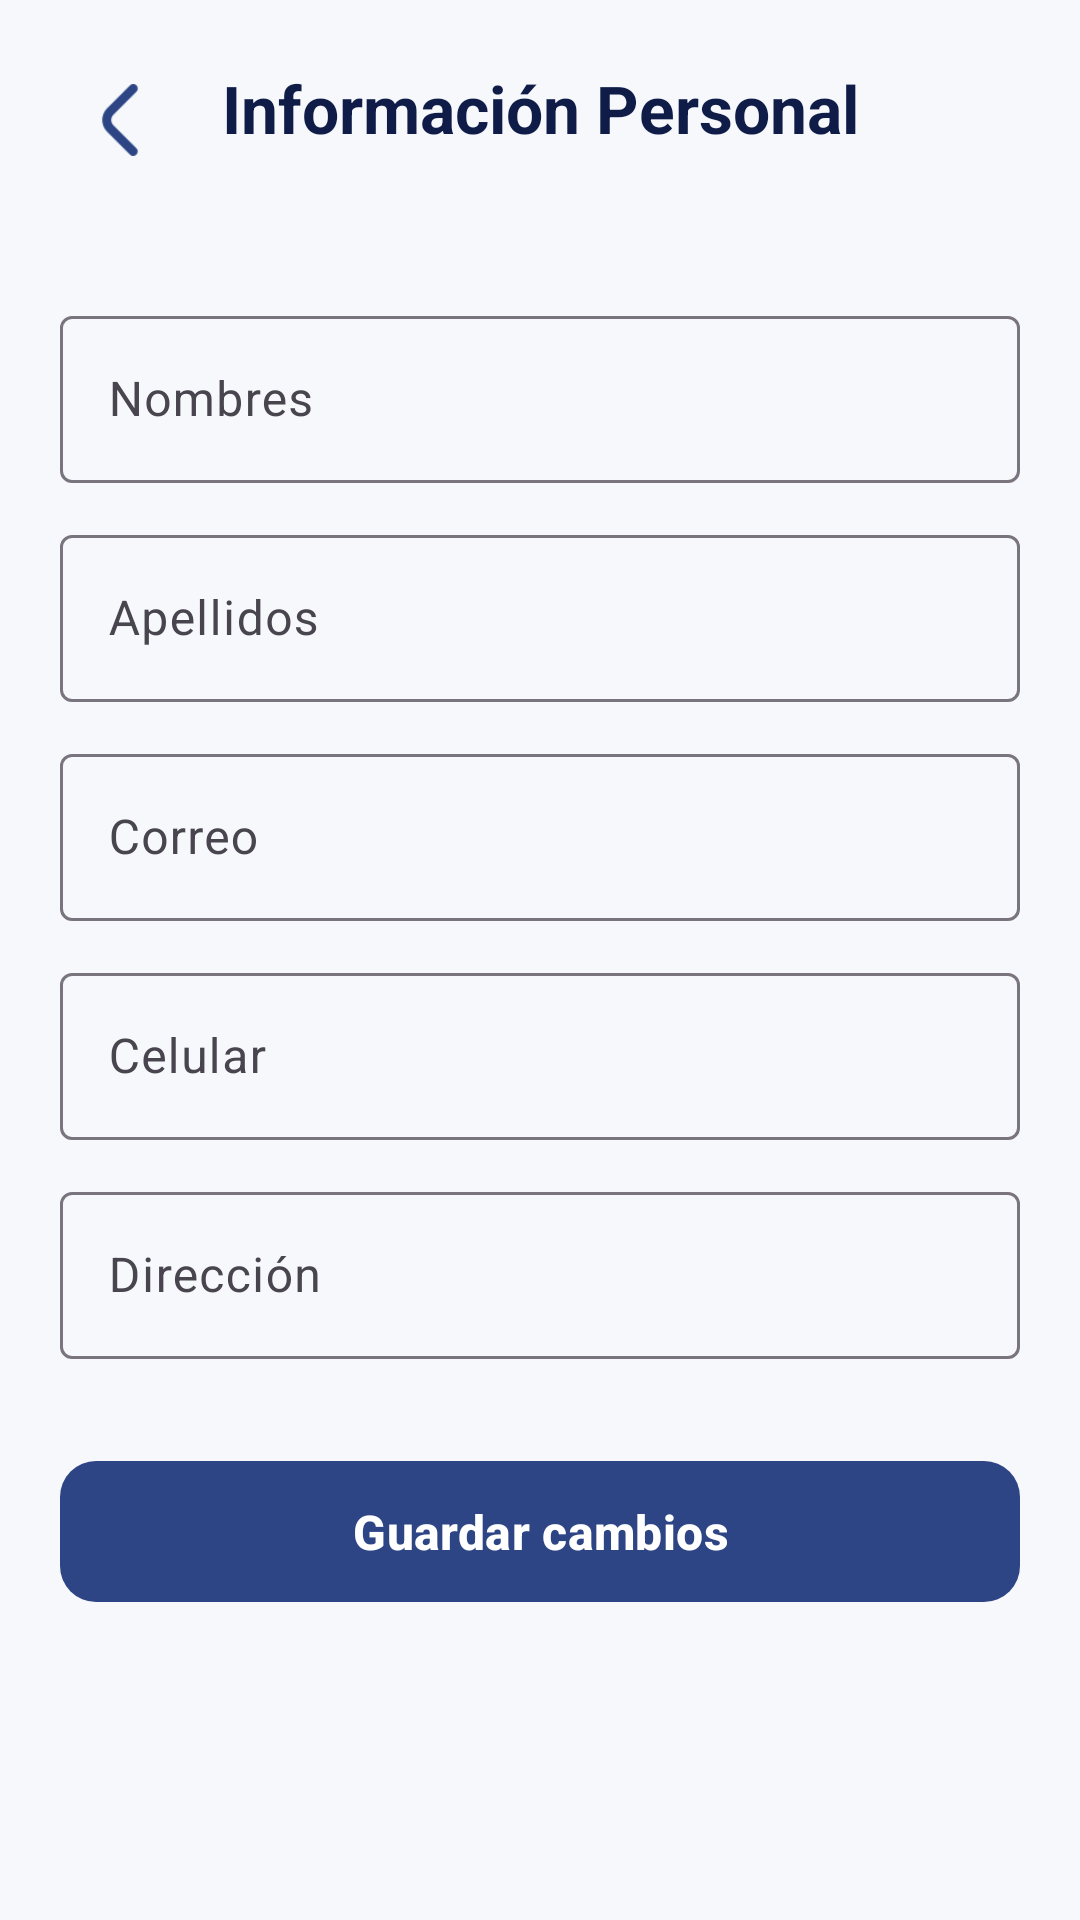

Where to tap for icons on this 1080px×1920px app screen, as (x=x, y=y):
arrow back: (x=120, y=120)
